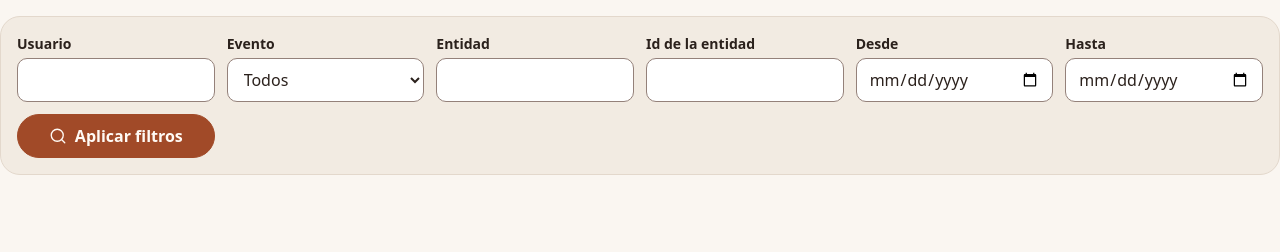
Test: FiltrosAuditoria › con desde igual a hasta emite y al corregir el rango quita el error
The width and height of the screenshot is (1280, 252).
In the date field labelled "Desde": (955, 80) [856,58,1053,102], type "2026-11-20"
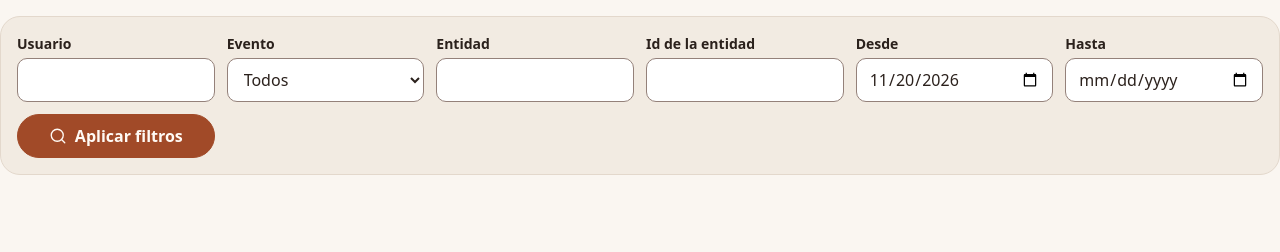
In the date field labelled "Hasta": (1164, 80) [1065,58,1263,102], type "2026-11-10"
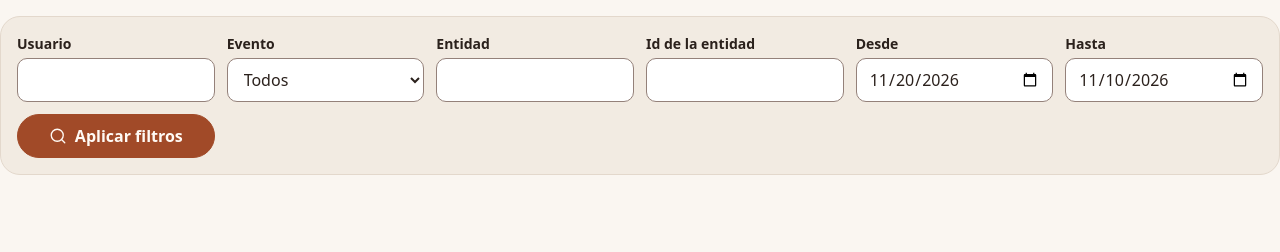
Click the button "Aplicar filtros": (116, 136) [17,114,215,158]
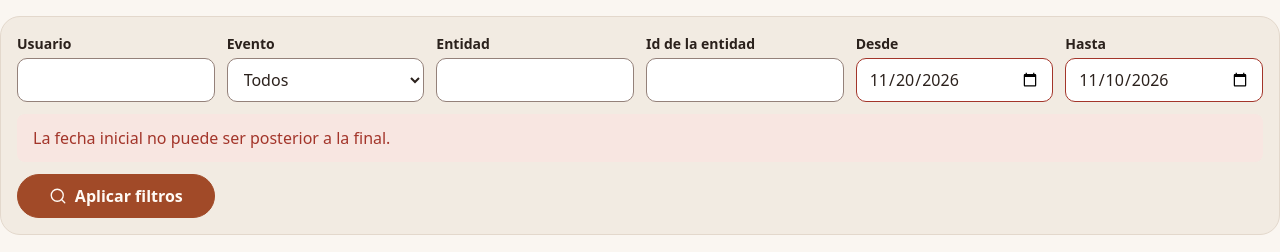
In the date field labelled "Hasta": (1164, 80) [1065,58,1263,102], type "2026-11-20"
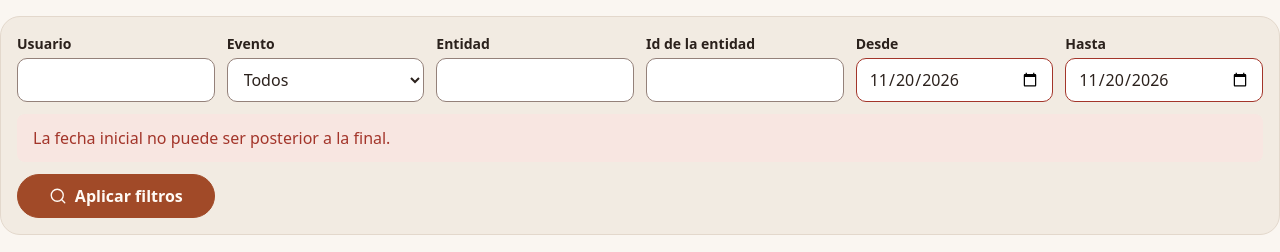
Click the button "Aplicar filtros": (116, 196) [17,174,215,218]
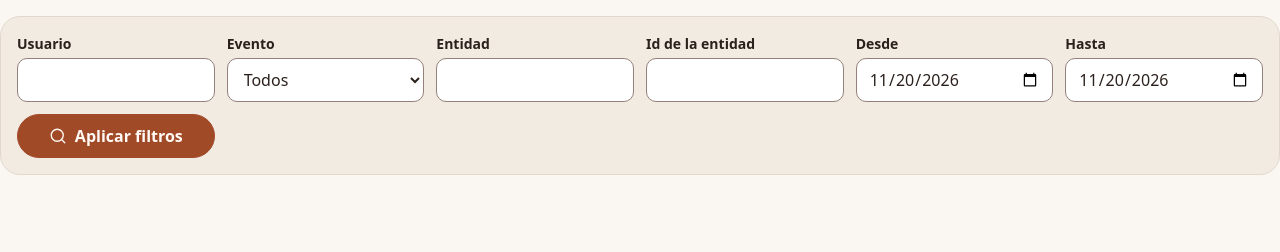
Expected: the message "La fecha inicial no puede ser posterior a la final." is gone
